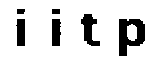i: (12, 6, 35, 51), (45, 6, 64, 53)
p: (114, 12, 150, 60)
t: (78, 13, 103, 48)
